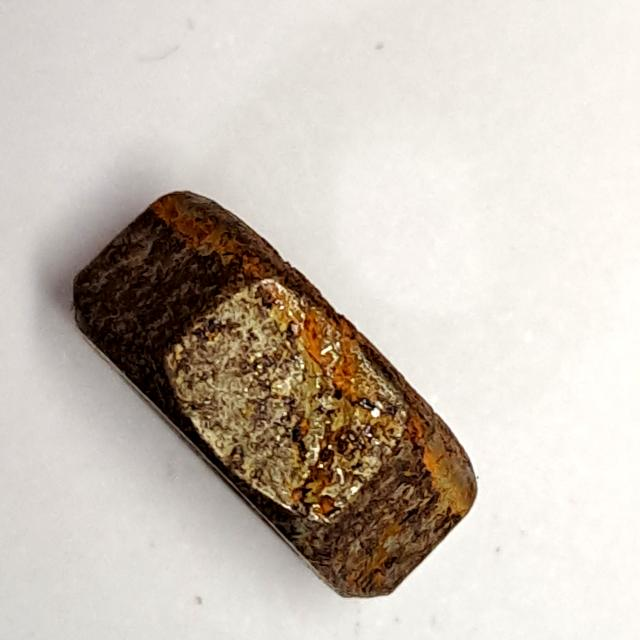Side_Rust: (60, 179, 501, 614)
